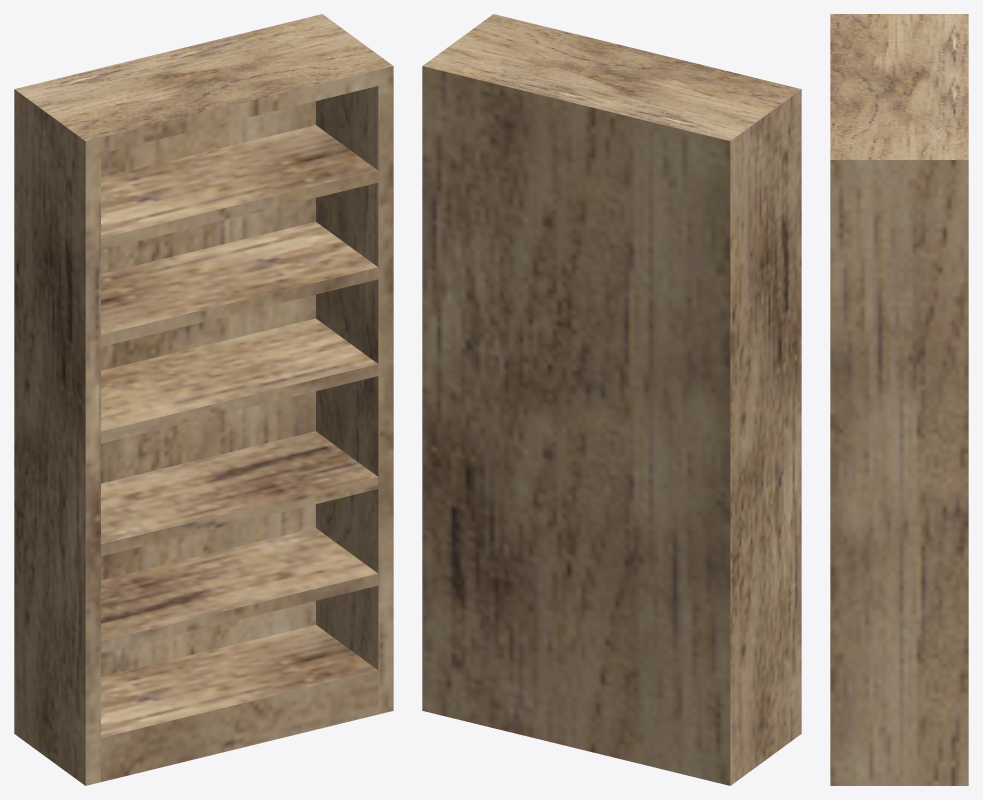
Rendered from Bookshelf01.obj.
3 renders of one model, left to right at view 1: azimuth 30°, elevation 25°; view 2: azimuth 150°, elevation 25°; view 3: azimuth 270°, elevation 25°, orthographic. The views are drawn at different scales.
Visible parts, largest first — view 1: Bookshelf01; view 2: Bookshelf01; view 3: Bookshelf01.
Boxes of the visible parts, bbox=[...] form: Bookshelf01: bbox=[14, 14, 393, 785]; Bookshelf01: bbox=[422, 14, 801, 785]; Bookshelf01: bbox=[830, 14, 968, 785].
Bounding box in the file's own units: 2 × 4 × 0.8.
